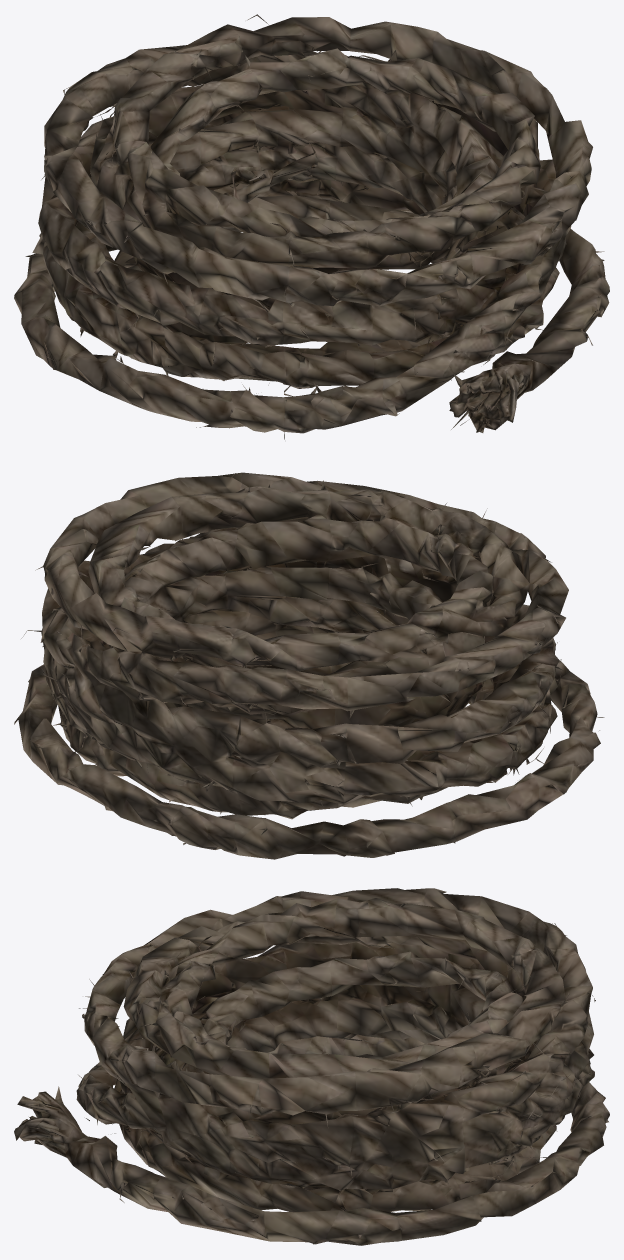
The model's file is rope_bundle.f36da324.glb.
3 renders of one model, top to bottom at view 1: azimuth 30°, elevation 25°; view 2: azimuth 150°, elevation 25°; view 3: azimuth 270°, elevation 25°, orthographic. The views are drawn at different scales.
Visible parts, largest first — view 1: item; view 2: item; view 3: item.
Part boxes in pixels (x1,y1,x2,y2): item: (14,14,609,439); item: (14,472,604,859); item: (14,888,609,1245).
Bounding box in the file's own units: 0.4645 × 0.1713 × 0.4888.
Materials: 1 (1 with a texture image).
